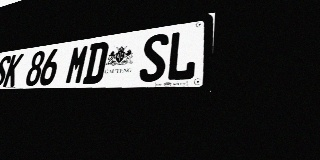6: (38, 48, 62, 86)
8: (24, 50, 47, 86)
D: (82, 41, 110, 84)
K: (2, 53, 24, 87)
L: (165, 28, 199, 81)
M: (64, 44, 90, 85)
S: (138, 33, 170, 82), (0, 55, 12, 87)
